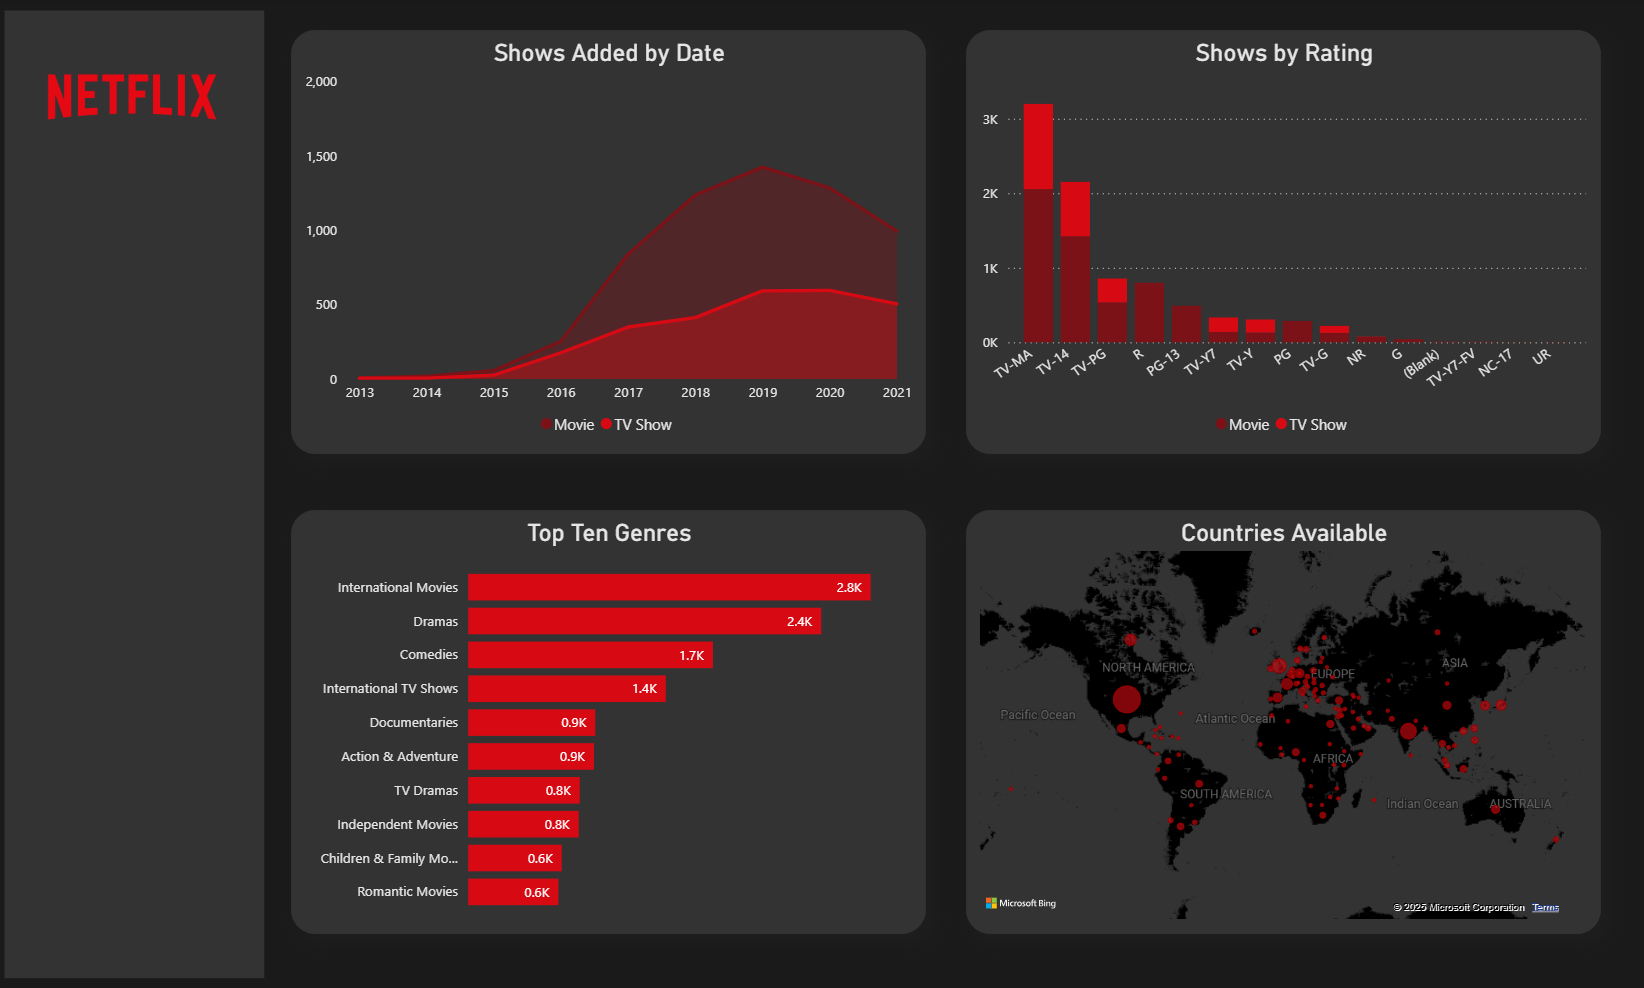

Layout of this report page (visuals, bound fields, positions):
{"tool":"powerbi","page":{"name":"Overview","canvas":[1500,900],"ordinal":0},"visuals":[{"type":"shape","box":[12.1,12.1,234.1,871.8],"z":0},{"type":"areaChart","title":"Shows Added by Date","fields":{"Y":["CountNonNull(netflix_data titles.show_id)"],"Category":["netflix_data titles.date_added.Variation.Date Hierarchy.Year"],"Series":["netflix_data titles.type"]},"box":[270.9,30.3,572.2,382],"z":1000},{"type":"columnChart","title":"Shows by Rating","fields":{"Category":["netflix_data titles.rating"],"Y":["CountNonNull(netflix_data titles.show_id)"],"Series":["netflix_data titles.type"]},"box":[878.5,30.3,572.2,382],"z":2000},{"type":"map","title":"Countries Available","fields":{"Size":["CountNonNull(netflix_data countries_released.show_id)"],"Category":["netflix_data countries_released.country"]},"box":[878.5,462.8,572.2,382],"z":3000},{"type":"clusteredBarChart","title":"Top Ten Genres","fields":{"Category":["netflix_data netflix_listed_in.category"],"Y":["CountNonNull(netflix_data netflix_listed_in.show_id)"]},"box":[270.9,462.8,572.2,382],"z":4000},{"type":"image","box":[16.7,30,221.7,115],"z":5000}]}

Visuals, with their boxes in screenshot pixels (x1, y1, x2, y2), scaled from the page's 1500x900 canvas onto the 1644x988 screenshot:
shape: [x1=13, y1=13, x2=270, y2=970]
"Shows Added by Date" areaChart: [x1=297, y1=33, x2=924, y2=453]
"Shows by Rating" columnChart: [x1=963, y1=33, x2=1590, y2=453]
"Countries Available" map: [x1=963, y1=508, x2=1590, y2=927]
"Top Ten Genres" clusteredBarChart: [x1=297, y1=508, x2=924, y2=927]
image: [x1=18, y1=33, x2=261, y2=159]
